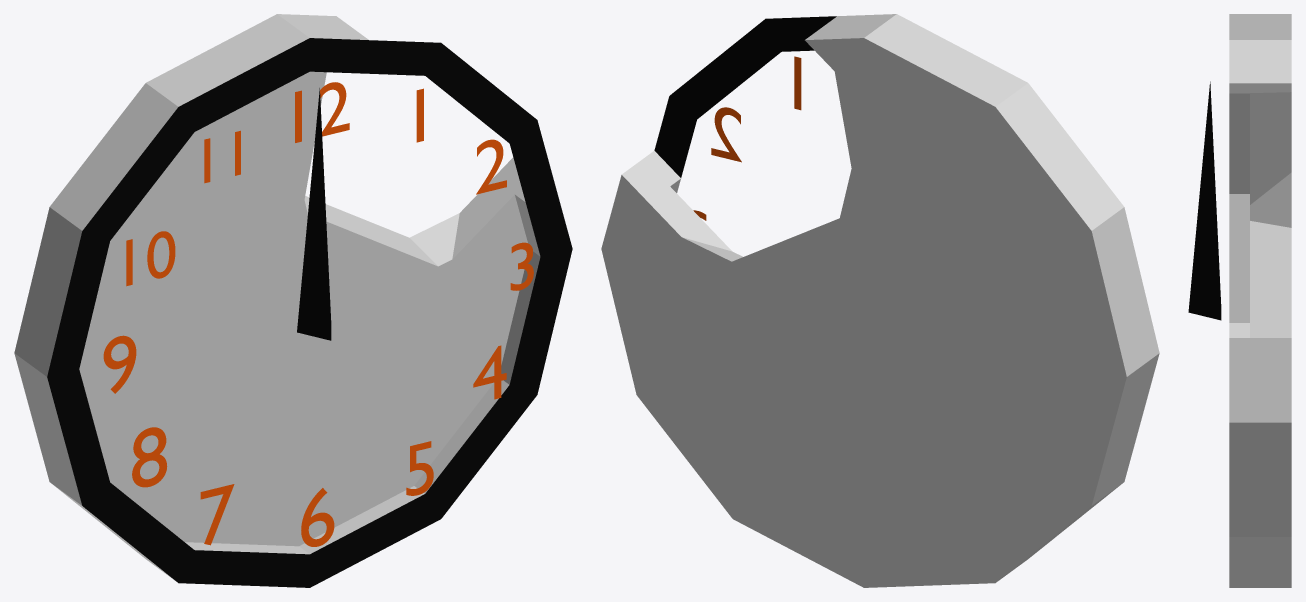
Rendered from Klok.glb.
3 views of the same model, side by side, from view 1: azimuth 30°, elevation 25°; view 2: azimuth 150°, elevation 25°; view 3: azimuth 270°, elevation 25° (orthographic). The views are drawn at different scales.
Visible parts, largest first — view 1: Cylinder.002, Cylinder.003, Cone.001, Text.011, Text.015, Text.013, Text.009, Text.012, Text.007; view 2: Cylinder.002, Cylinder.003; view 3: Cylinder.002, Cone.001.
Part boxes in pixels (x1,y1,x2,y2): Cylinder.002: [14, 14, 540, 580]; Cylinder.003: [47, 38, 572, 587]; Cone.001: [297, 88, 331, 340]; Text.011: [132, 427, 167, 487]; Text.015: [295, 82, 349, 142]; Text.013: [126, 231, 175, 286]; Text.009: [301, 488, 334, 546]; Text.012: [103, 335, 136, 393]; Text.007: [473, 345, 506, 399]; Cylinder.002: [601, 14, 1159, 587]; Cylinder.003: [654, 16, 836, 177]; Cylinder.002: [1229, 14, 1291, 587]; Cone.001: [1188, 81, 1221, 320].
Size of the model in its own units: 1.05 by 1.05 by 0.1877.
